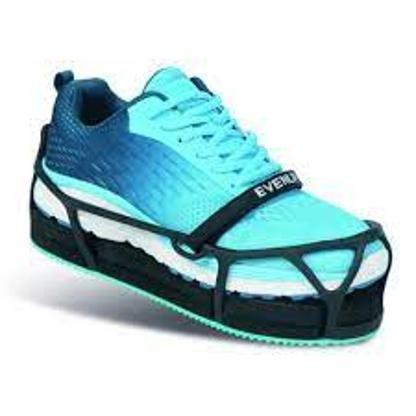not trash: (28, 63, 392, 349)
